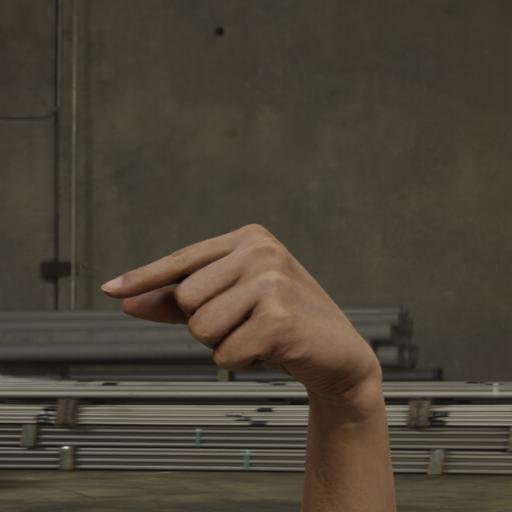G: (79, 198, 423, 512)
